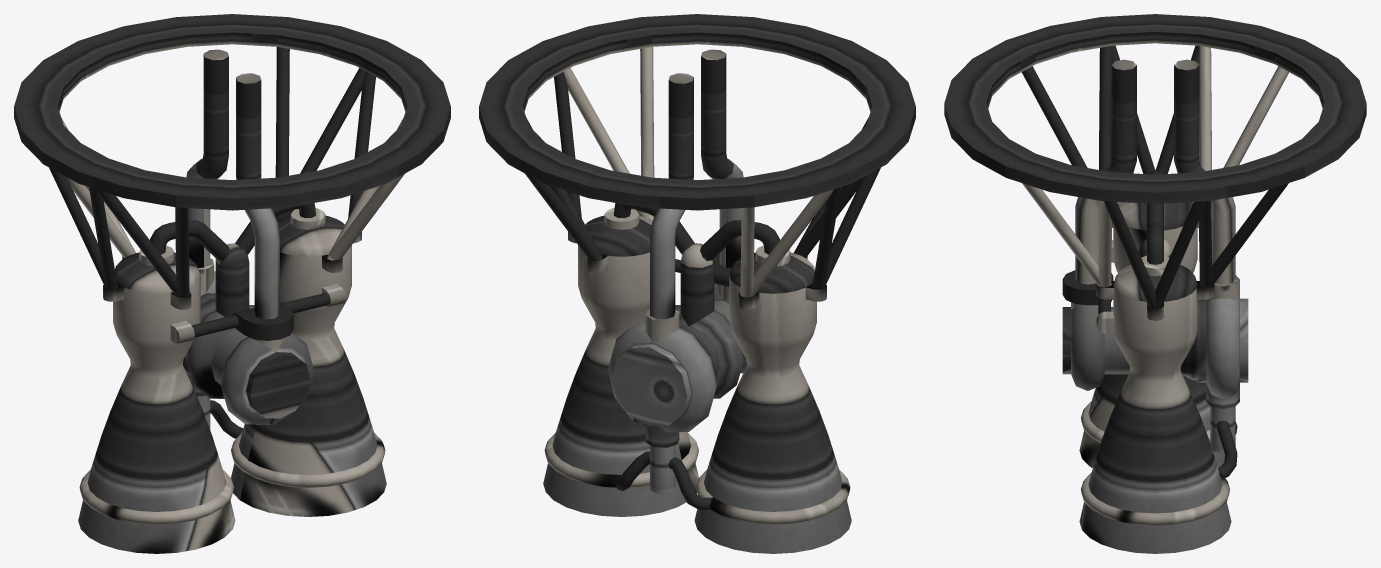
The model's file is lower stage engine.obj.
The picture shows the model from 3 angles, left to right: view 1: azimuth 30°, elevation 25°; view 2: azimuth 150°, elevation 25°; view 3: azimuth 270°, elevation 25°; orthographic projection. The views are drawn at different scales.
Parts seen in each view (by area): view 1: 1; view 2: 1; view 3: 1.
Part boxes in pixels (x1=…): 1: x1=14, y1=14, x2=450, y2=553; 1: x1=479, y1=14, x2=915, y2=553; 1: x1=944, y1=14, x2=1366, y2=553.
Size of the model in its own units: 1.25 by 1.37 by 1.25.
